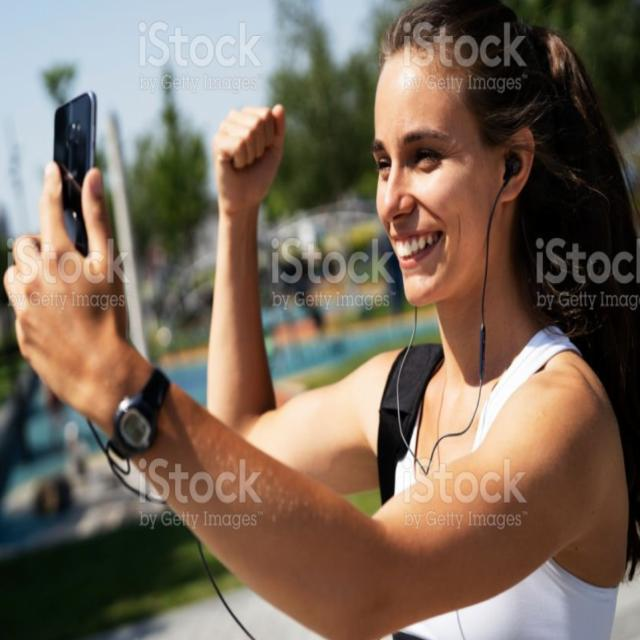Watch: (106, 370, 172, 460)
